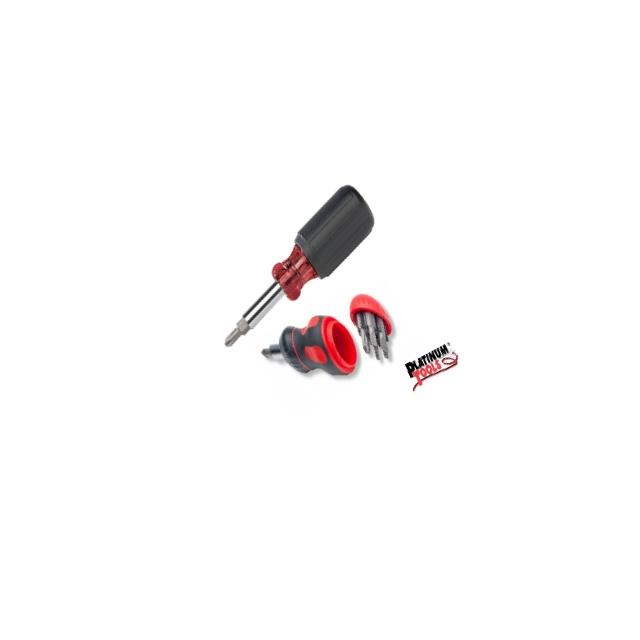screwdriver: (182, 176, 402, 354)
